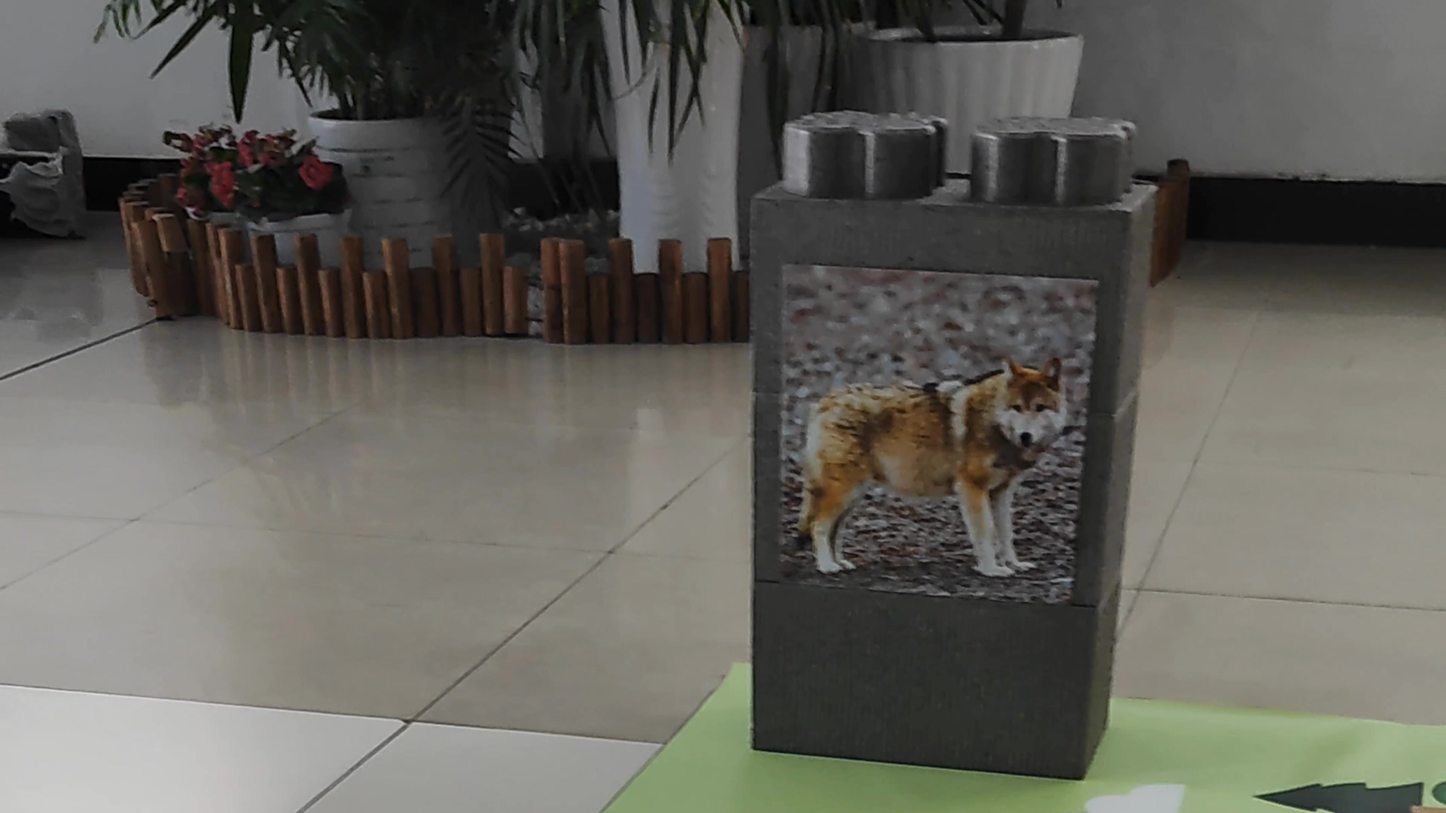wolf: (779, 345, 1071, 581)
